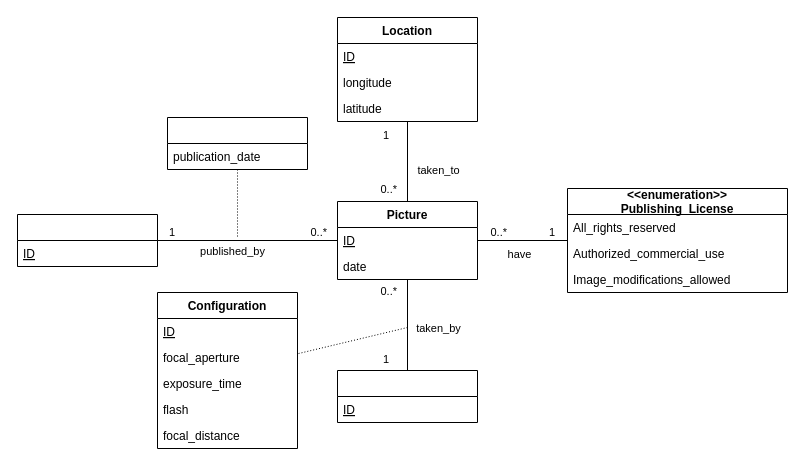
Image size: 805x469. Some labels were removed from this diagram. The shapes that lost their labels are listed below. From the top down, each one's box as (x1, y1, x2, y2) in pixels, then its label:
(16, 214, 158, 266): User
(336, 370, 478, 422): Camera
